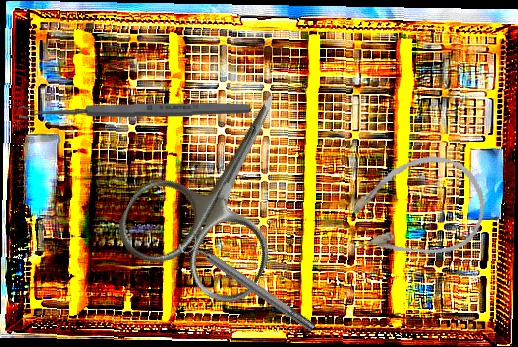Cannula: (334, 145, 495, 275)
Fixation Ring: (175, 228, 321, 340)
Iris Scissors: (107, 58, 341, 315)
Surgical Spoon: (18, 100, 251, 120)
